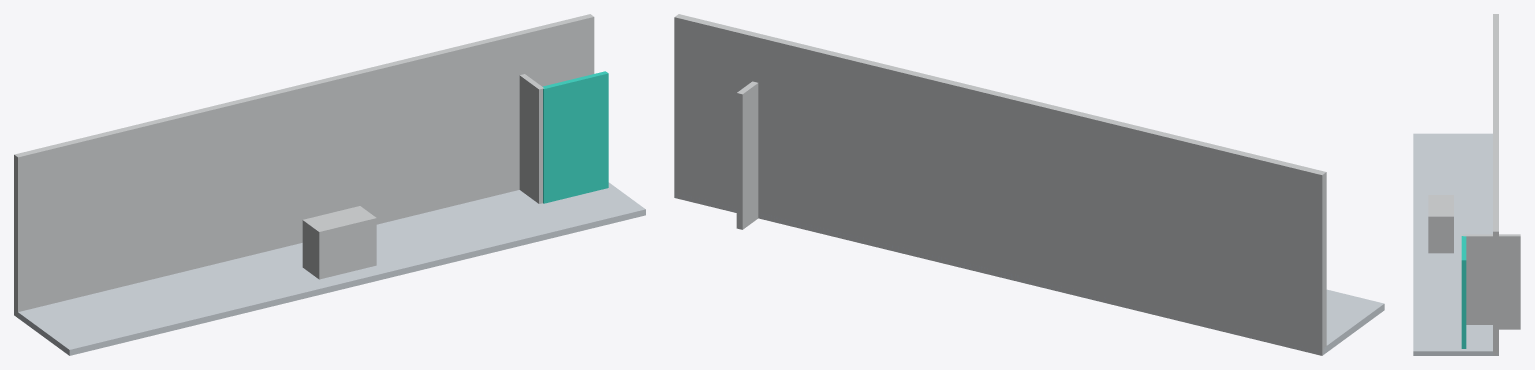
3 renders of one model, left to right at view 1: azimuth 30°, elevation 25°; view 2: azimuth 150°, elevation 25°; view 3: azimuth 270°, elevation 25°, orthographic. The views are drawn at different scales.
Parts seen in each view (by area): view 1: Exhibition Booth Concept; view 2: Exhibition Booth Concept; view 3: Exhibition Booth Concept.
Boxes of the visible parts, x1,y1,x2,y2 form: Exhibition Booth Concept: (14,14,645,355); Exhibition Booth Concept: (674,14,1384,355); Exhibition Booth Concept: (1413,14,1520,355).
Size of the model in its own units: 12 by 3.2 by 2.5.
